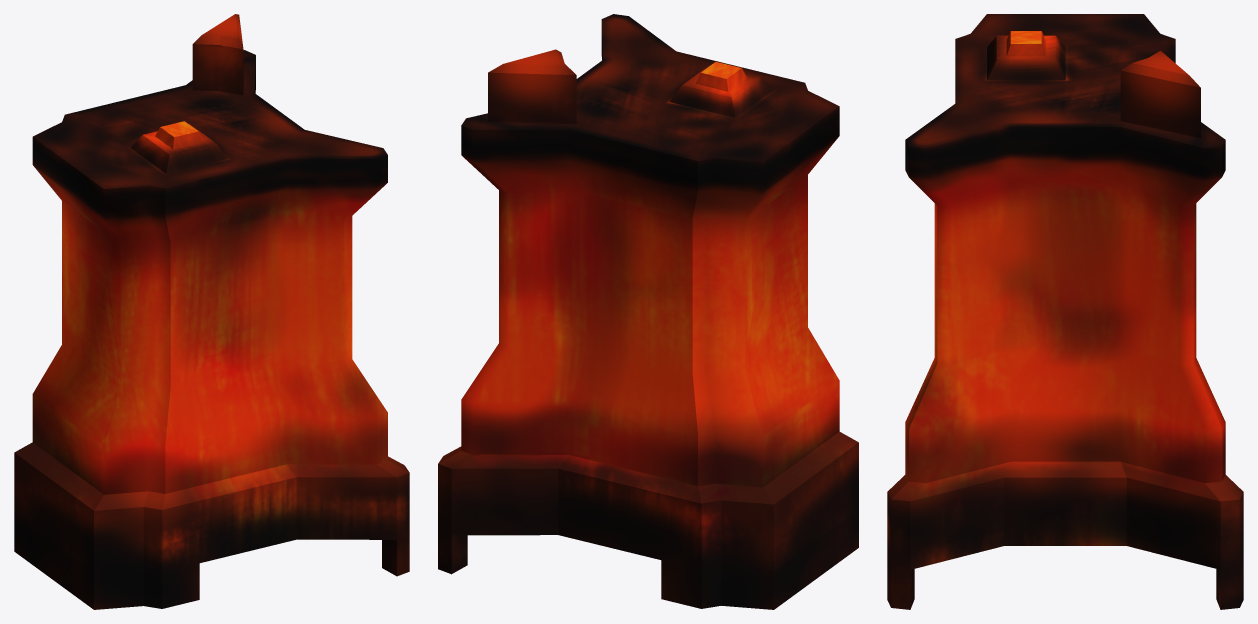
File: Beacon 1.fbx
3 views of the same model, side by side, from view 1: azimuth 30°, elevation 25°; view 2: azimuth 150°, elevation 25°; view 3: azimuth 270°, elevation 25° (orthographic). The views are drawn at different scales.
Visible parts, largest first — view 1: pCube3; view 2: pCube3; view 3: pCube3.
Boxes of the visible parts, x1,y1,x2,y2 form: pCube3: (14, 14, 409, 609); pCube3: (438, 14, 858, 609); pCube3: (887, 14, 1243, 609).
Bounding box in the file's own units: 1.13 × 1.8 × 1.13.
